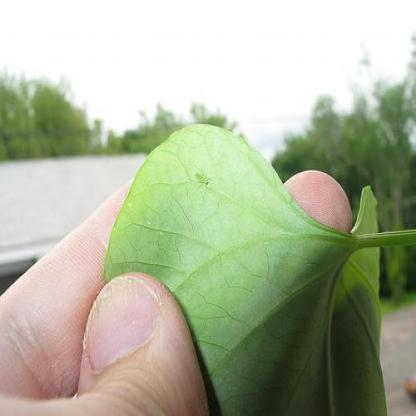aphid: (190, 162, 215, 190)
